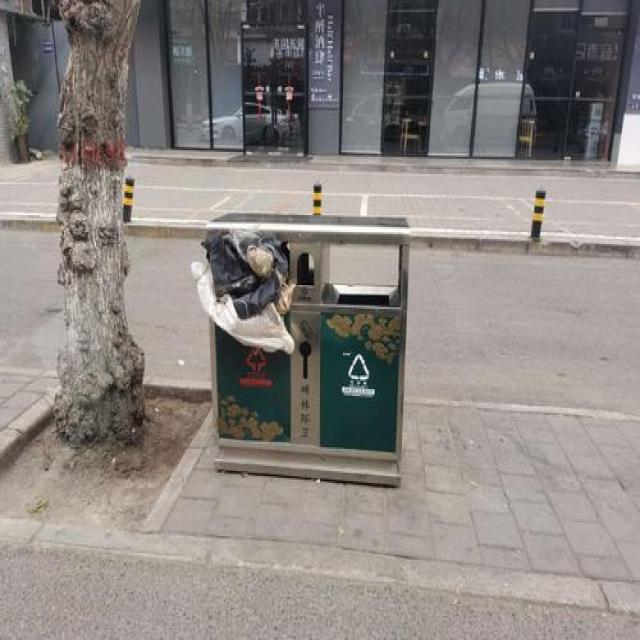overflow: (190, 210, 410, 488)
